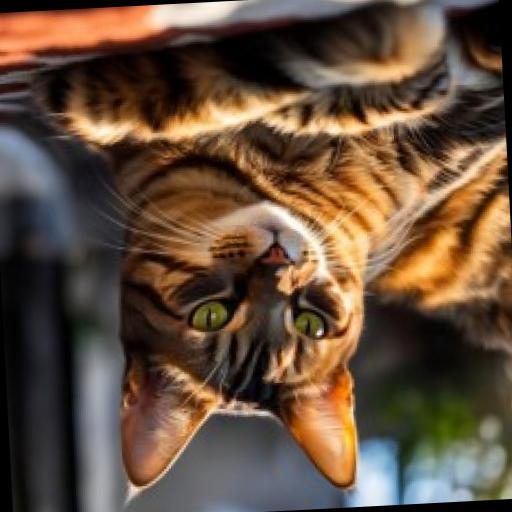cat: (53, 28, 512, 512)
